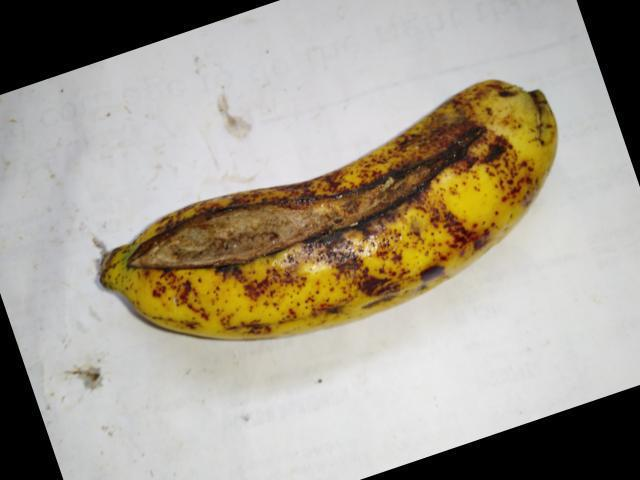rotten: (105, 112, 509, 290)
